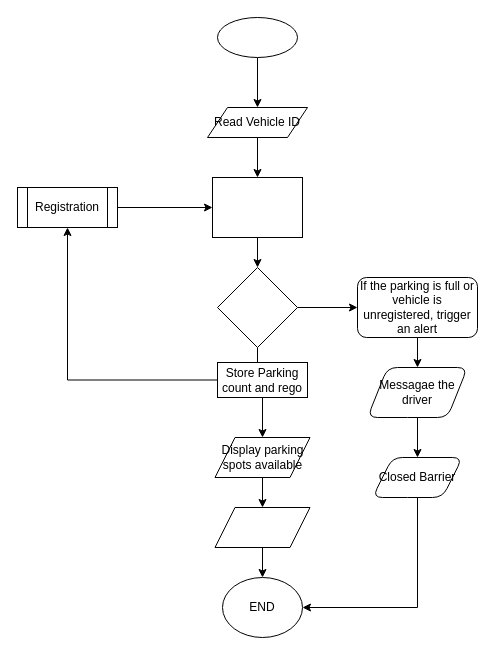
This 495x655 diagram has some shape labels left out. Here are the shapes that lost their labels. From the top down, the centre of each, then its label:
At point 257,37: "Start".
At point 257,207: "Check vehicle registration and parking space".
At point 257,307: "Vehicle rego and count".
At point 262,527: "Open the barrier".
